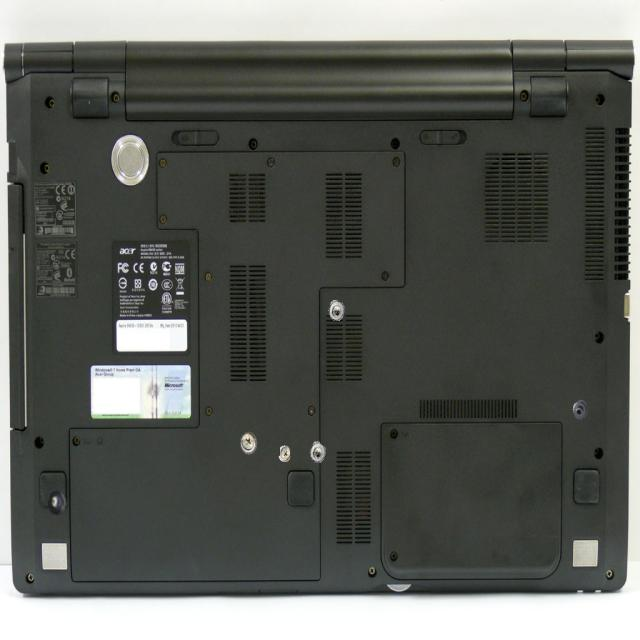lock: (240, 432, 256, 453), (278, 445, 291, 462)
missing_screw: (48, 490, 66, 515), (309, 441, 326, 462), (328, 299, 344, 321), (572, 399, 588, 419)
